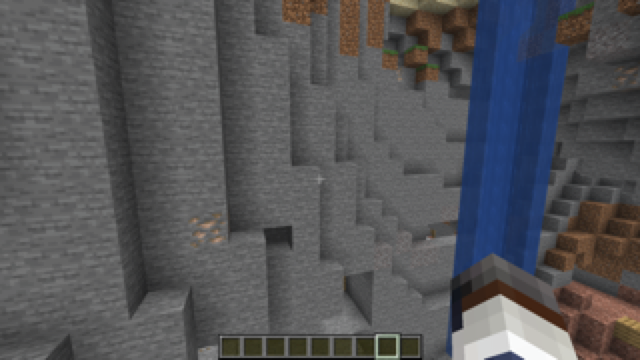iron: (186, 212, 228, 249), (614, 63, 640, 90), (396, 66, 402, 82)
